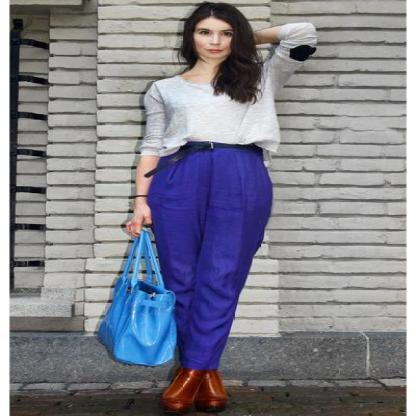bag: (94, 231, 176, 365)
pants: (137, 149, 286, 370)
shirt: (137, 22, 313, 158)
shoe: (162, 367, 229, 415)
